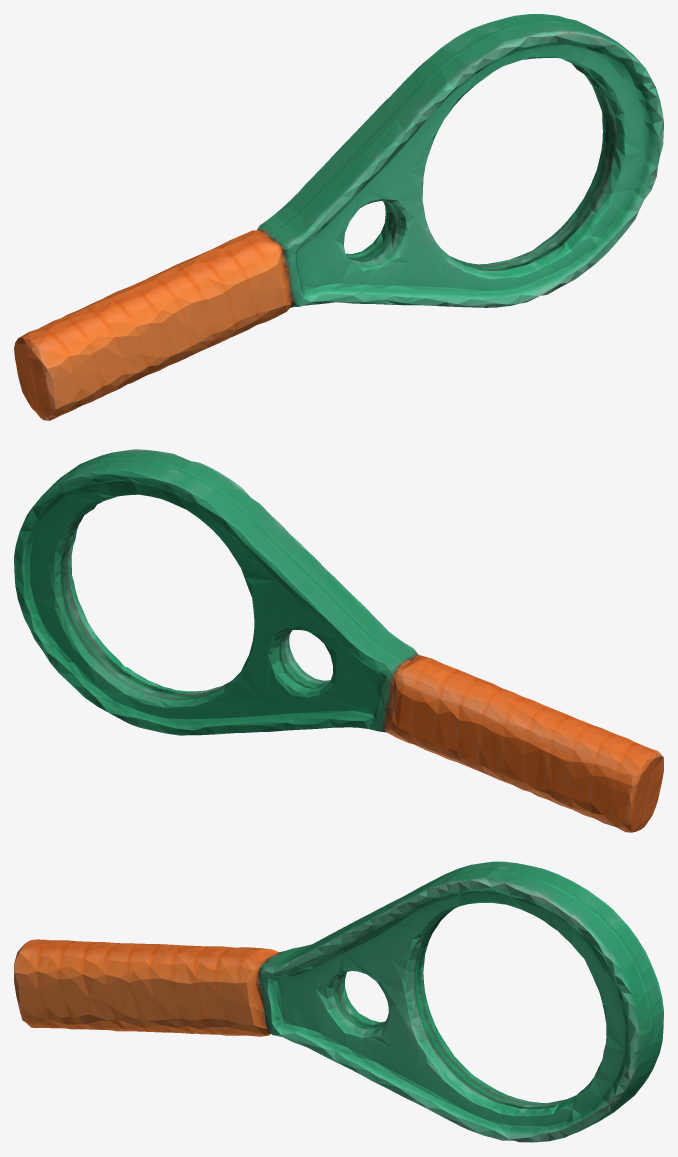
3 renders of one model, top to bottom at view 1: azimuth 30°, elevation 25°; view 2: azimuth 150°, elevation 25°; view 3: azimuth 330°, elevation 25°, orthographic. The views are drawn at different scales.
Size of the model in its own units: 0.1514 by 0.0604 by 0.0171.
Materials: 1 (1 with a texture image).
